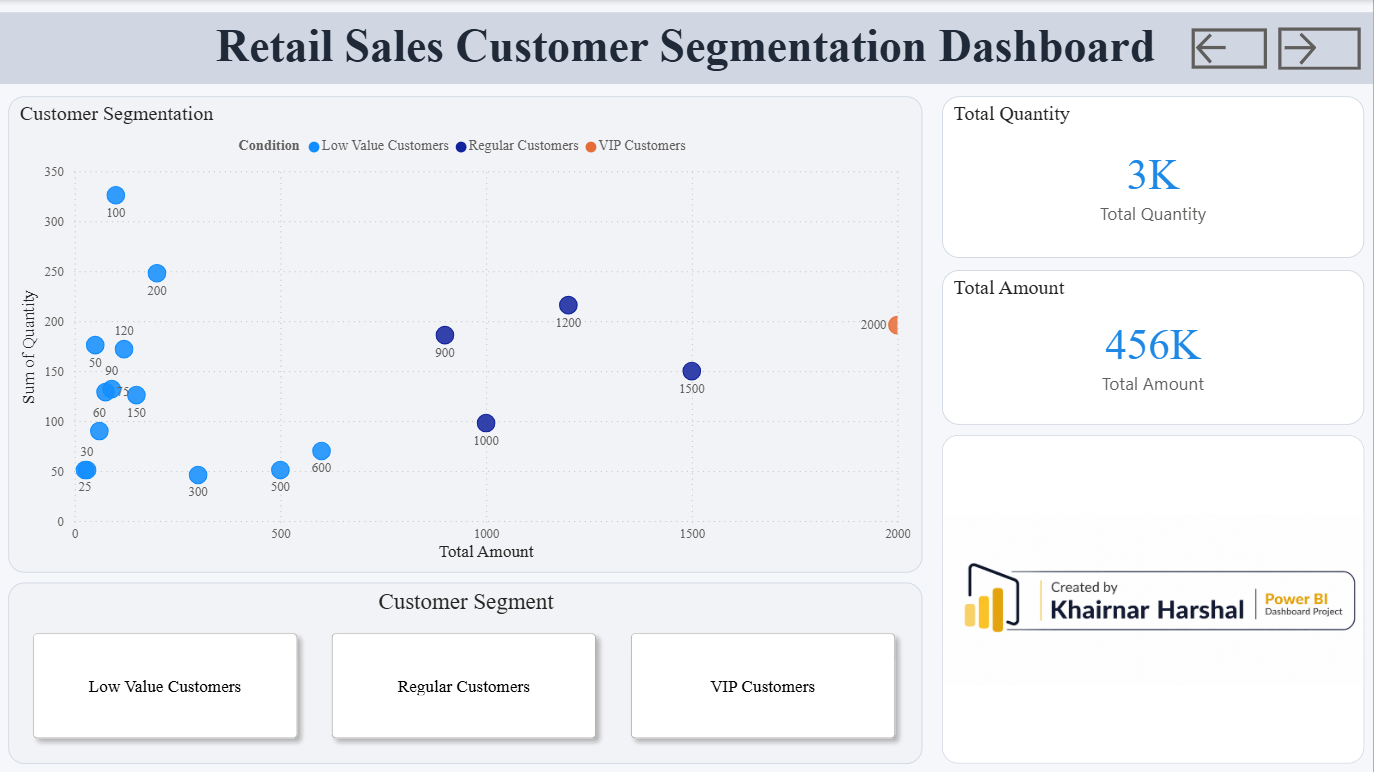

Layout of this report page (visuals, bound fields, positions):
{"tool":"powerbi","page":{"name":"Customer Segmentation","canvas":[1280,720],"ordinal":2},"visuals":[{"type":"scatterChart","title":"Customer Segmentation","fields":{"X":["customer_segments.Total Amount"],"Y":["Sum(customer_segments.Quantity)"],"Series":["customer_segments.Condition"]},"box":[10.5,89.5,850,443],"z":0},{"type":"textbox","box":[0.9,11.6,1279.1,66.3],"z":1000},{"type":"advancedSlicerVisual","title":"Customer Segment","fields":{"Values":["customer_segments.Condition"]},"box":[10.5,541.9,850,168.6],"z":2000},{"type":"cardVisual","title":"Total Quantity ","fields":{"Data":["Sum(customer_segments.Quantity)"]},"box":[879.1,89.5,393,150],"z":3000},{"type":"cardVisual","title":"Total Amount","fields":{"Data":["Sum(customer_segments.Total Amount)"]},"box":[879.1,251.2,393,144.2],"z":4000},{"type":"actionButton","box":[1110.5,25.6,72.1,39.5],"z":5000},{"type":"actionButton","box":[1191.9,25.6,76.7,39.5],"z":6000},{"type":"image","box":[879.1,404.7,393,305.8],"z":6001}]}

Visuals, with their boxes in screenshot pixels (x1, y1, x2, y2), scaled from the page's 1280x720 canvas onto the 1374x772 screenshot:
"Customer Segmentation" scatterChart: BBox(11, 96, 924, 571)
textbox: BBox(1, 12, 1373, 84)
"Customer Segment" advancedSlicerVisual: BBox(11, 581, 924, 762)
"Total Quantity " cardVisual: BBox(944, 96, 1366, 257)
"Total Amount" cardVisual: BBox(944, 269, 1366, 424)
actionButton: BBox(1192, 27, 1269, 70)
actionButton: BBox(1279, 27, 1362, 70)
image: BBox(944, 434, 1366, 762)
